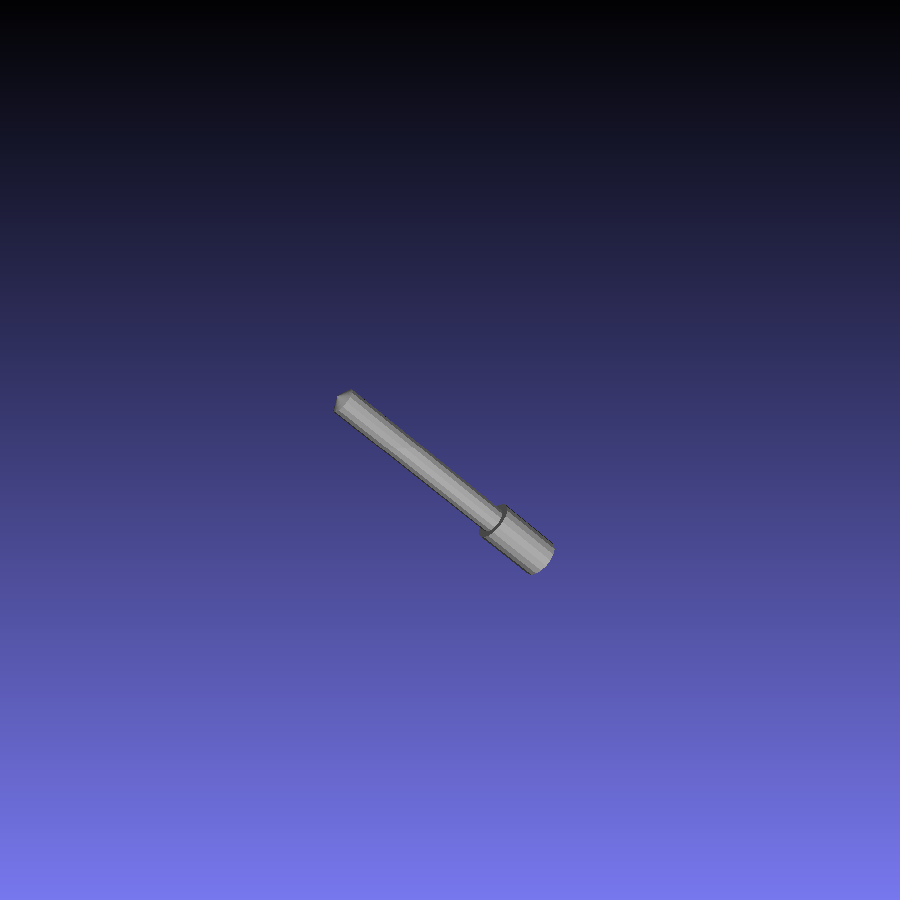cargo_g: (332, 387, 558, 577)
